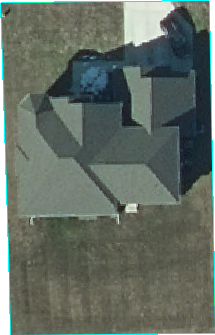house: (12, 63, 201, 223)
